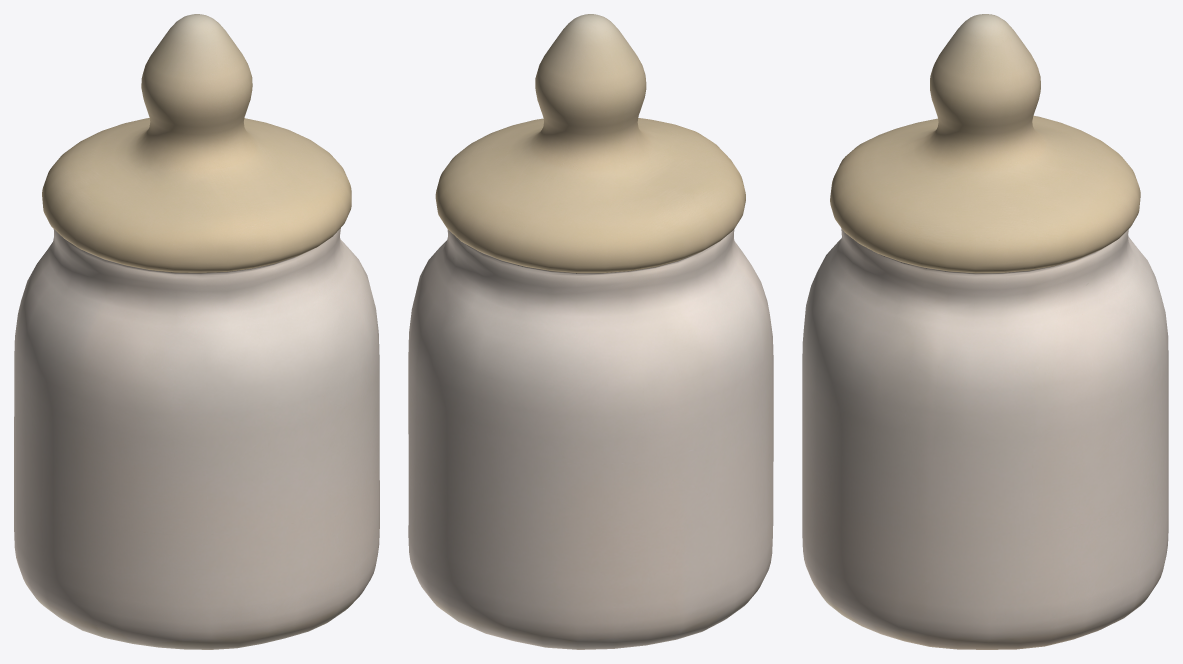
Rendered from Sugar_Jar.glb.
3 renders of one model, left to right at view 1: azimuth 30°, elevation 25°; view 2: azimuth 150°, elevation 25°; view 3: azimuth 270°, elevation 25°, orthographic.
Size of the model in its own units: 1.11 by 1.91 by 1.11.
Materials: 1 (1 with a texture image).
